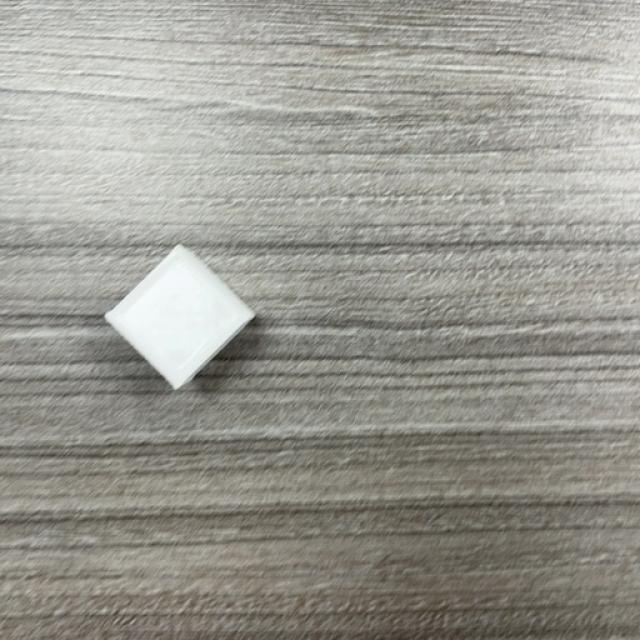Blanco: (104, 245, 256, 391)
